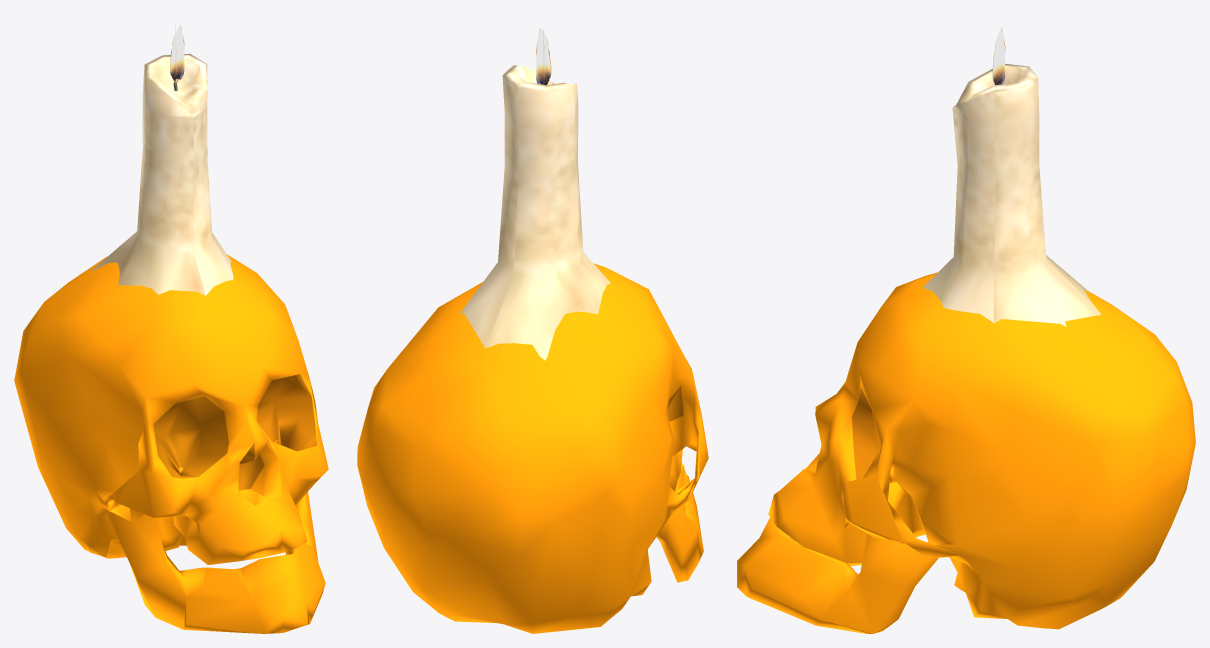
File: CandleSkullShapeA.005.glb
The picture shows the model from 3 angles, left to right: view 1: azimuth 30°, elevation 25°; view 2: azimuth 150°, elevation 25°; view 3: azimuth 270°, elevation 25°; orthographic projection. The views are drawn at different scales.
Parts seen in each view (by area): view 1: CandleSkullShapeA.005; view 2: CandleSkullShapeA.005; view 3: CandleSkullShapeA.005.
Part boxes in pixels (bbox=[...]): CandleSkullShapeA.005: bbox=[14, 25, 328, 633]; CandleSkullShapeA.005: bbox=[357, 28, 708, 633]; CandleSkullShapeA.005: bbox=[737, 27, 1195, 633].
Bounding box in the file's own units: 0.2005 × 0.4386 × 0.3132.
2 materials, 2 textured.
